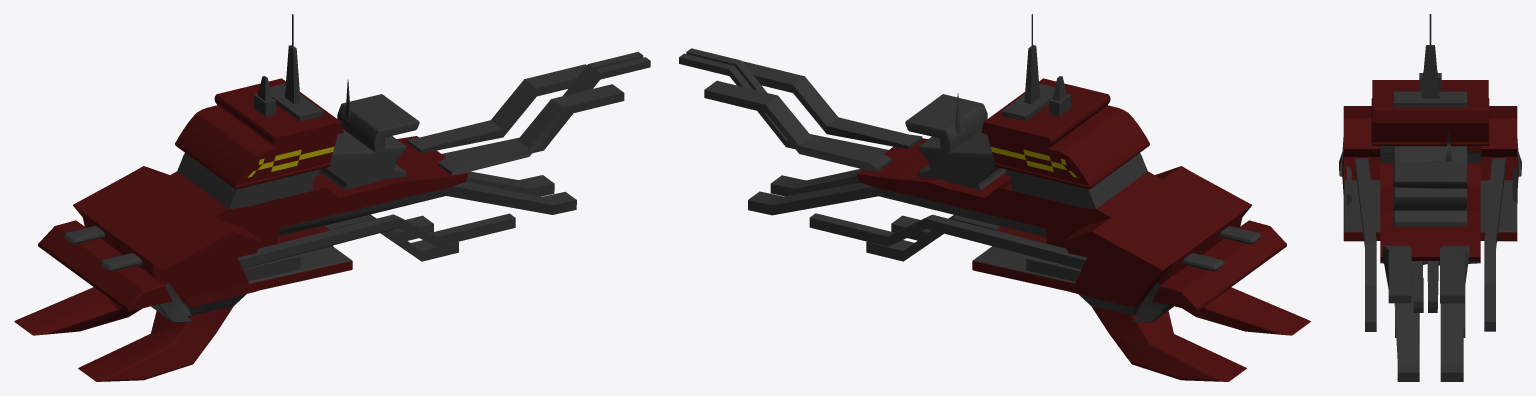
File: BigShip 1.fbx
The picture shows the model from 3 angles, left to right: view 1: azimuth 30°, elevation 25°; view 2: azimuth 150°, elevation 25°; view 3: azimuth 270°, elevation 25°; orthographic projection. The views are drawn at different scales.
Parts seen in each view (by area): view 1: pCube1; view 2: pCube1; view 3: pCube1.
Part boxes in pixels (x1,y1,x2,y2): pCube1: (14, 14, 650, 381); pCube1: (679, 14, 1310, 381); pCube1: (1339, 14, 1521, 381).
Bounding box in the file's own units: 35.21 × 16.46 × 9.78.
